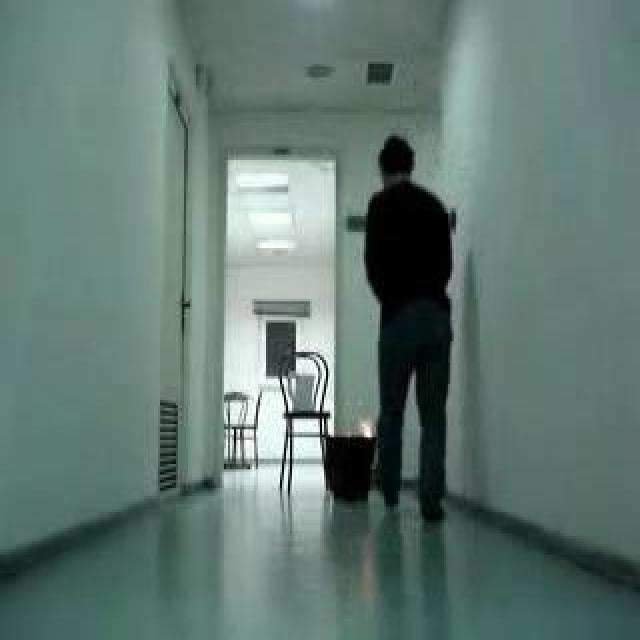Fire: (353, 417, 375, 439)
